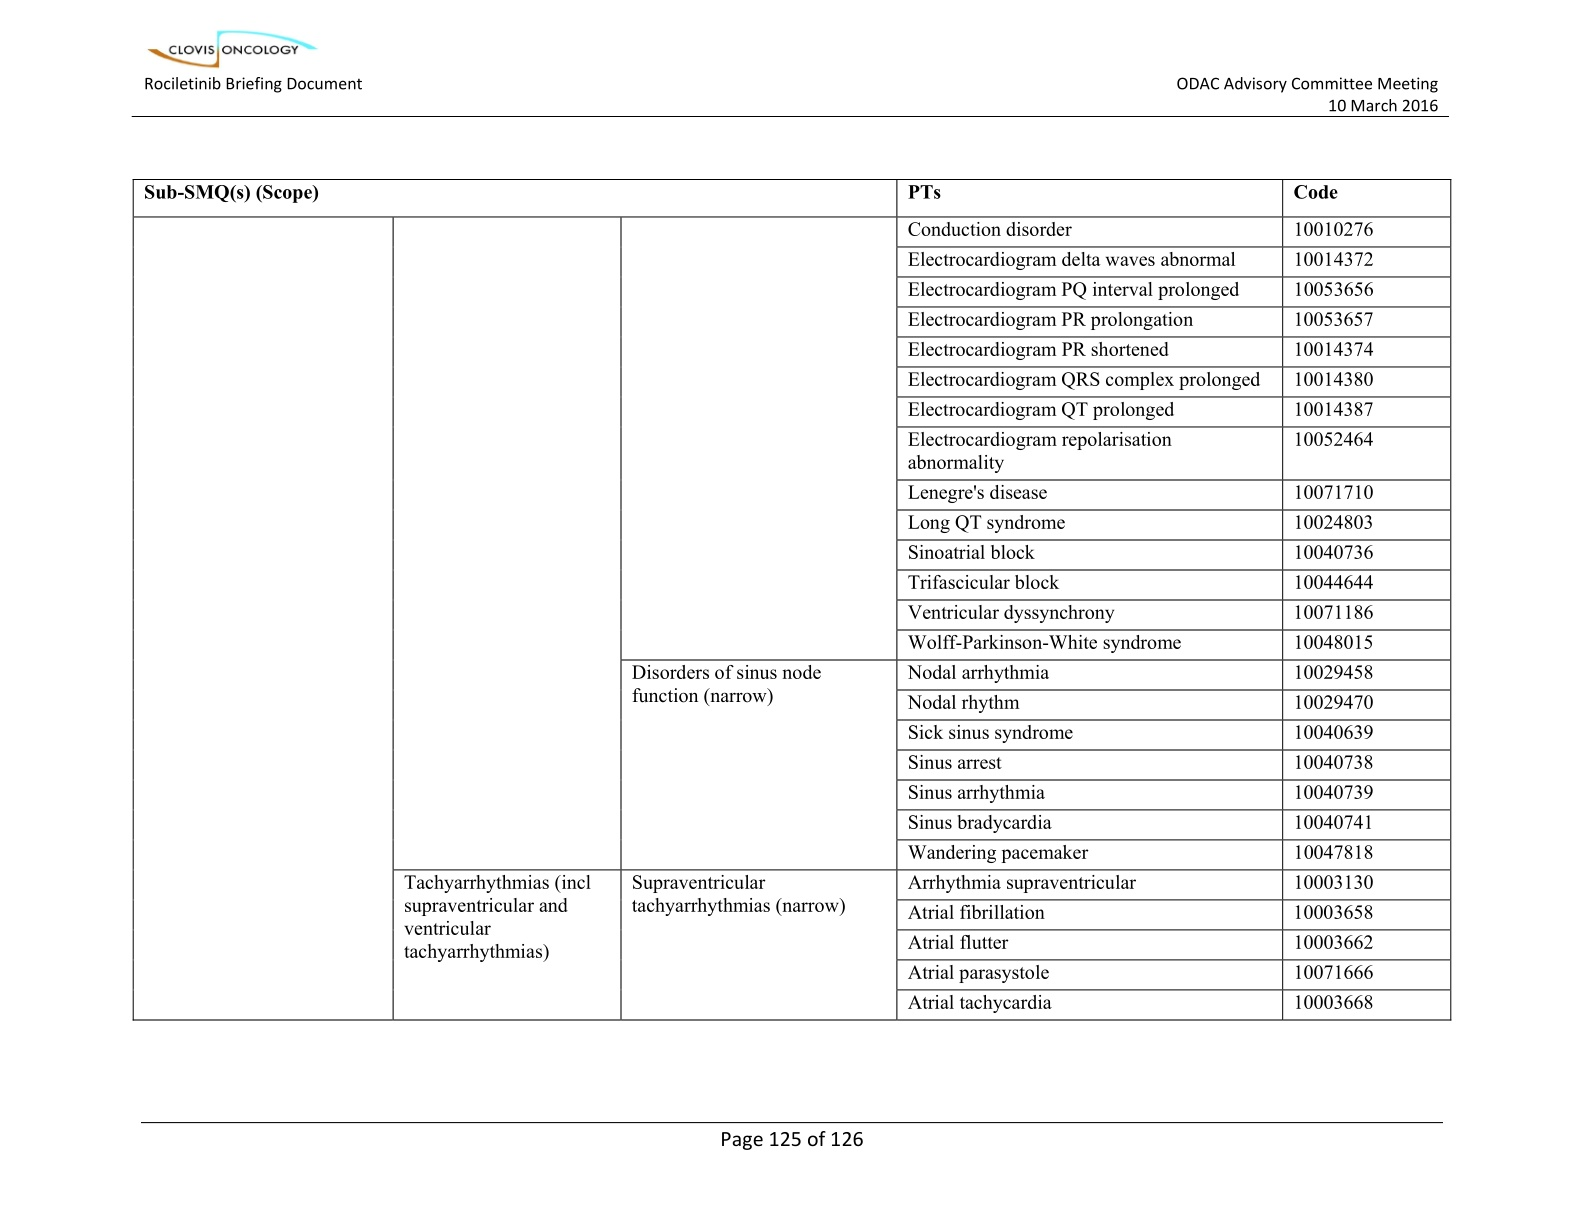merged_cells: (131, 177, 1452, 1022)
